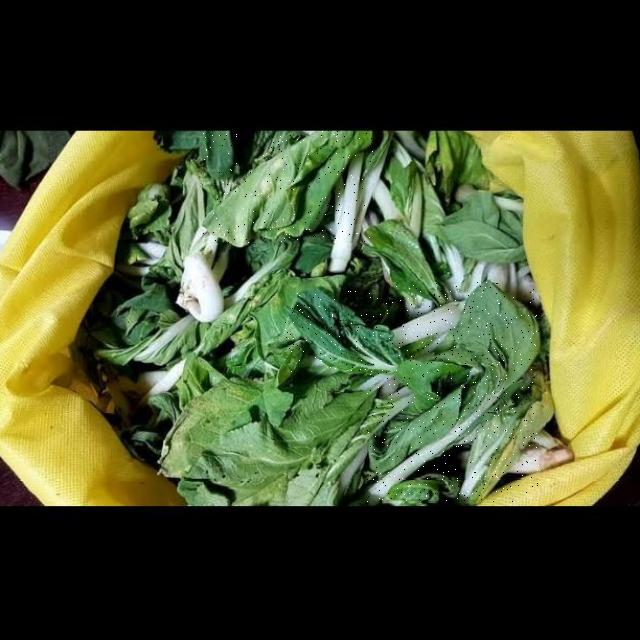biowaste: (368, 282, 539, 502), (202, 130, 374, 243), (285, 292, 402, 372)
